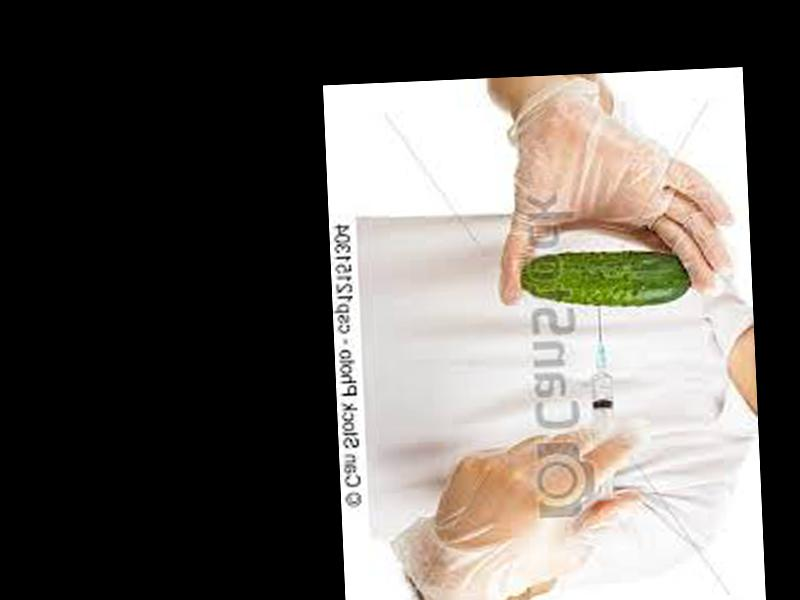Cucumber: (516, 245, 691, 309)
